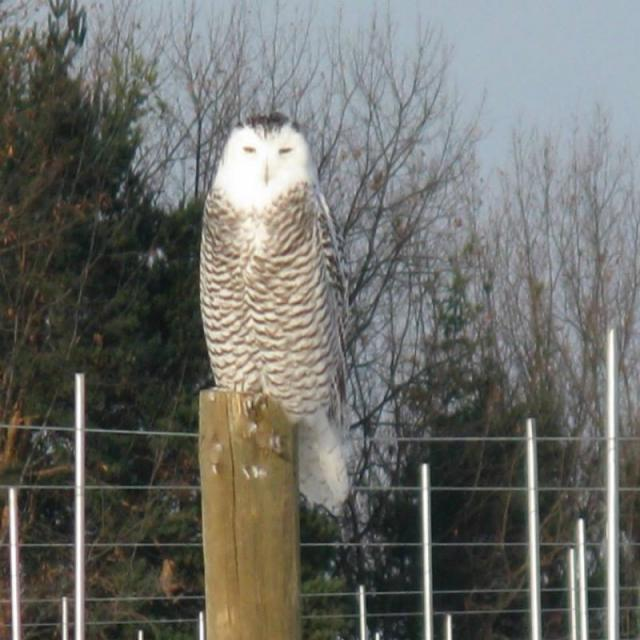bird: (194, 108, 369, 517)
